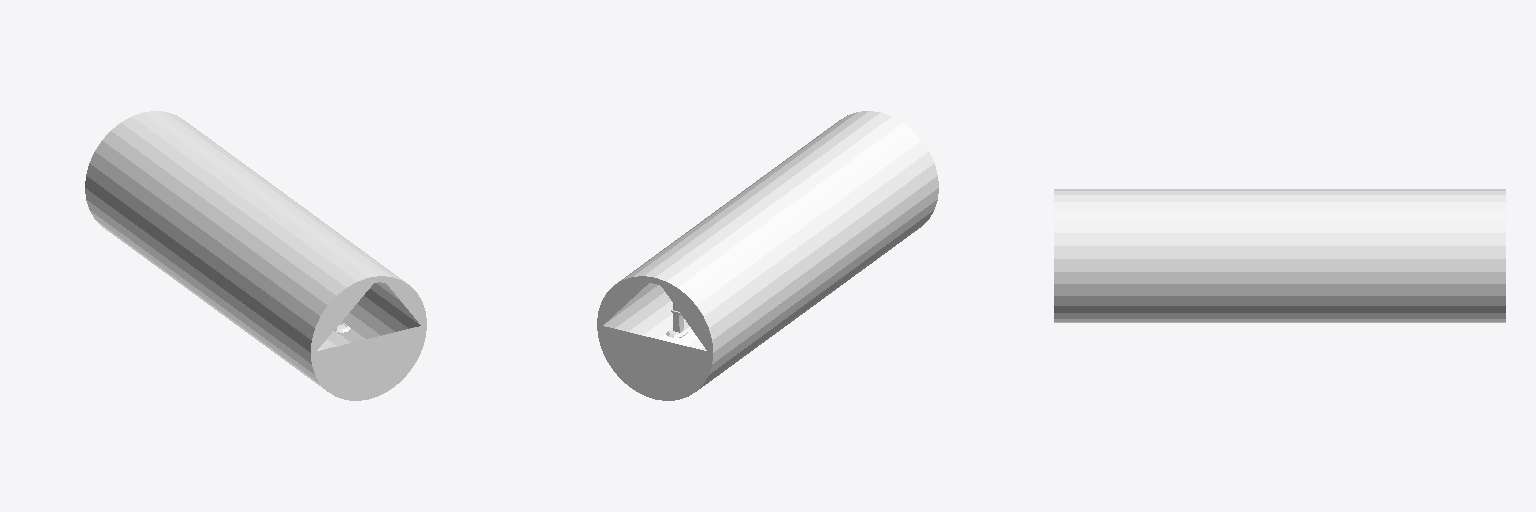
File: tunnel.obj
The picture shows the model from 3 angles: view 1: azimuth 30°, elevation 25°; view 2: azimuth 150°, elevation 25°; view 3: azimuth 270°, elevation 25°; orthographic projection.
Parts seen in each view (by area): view 1: Cylinder.002; view 2: Cylinder.002; view 3: Cylinder.002.
Part boxes in pixels (x1,y1,x2,y2): Cylinder.002: (85, 111, 426, 400); Cylinder.002: (597, 111, 938, 400); Cylinder.002: (1054, 189, 1505, 322).
Bounding box in the file's own units: 0.0916 × 0.0916 × 0.3077.